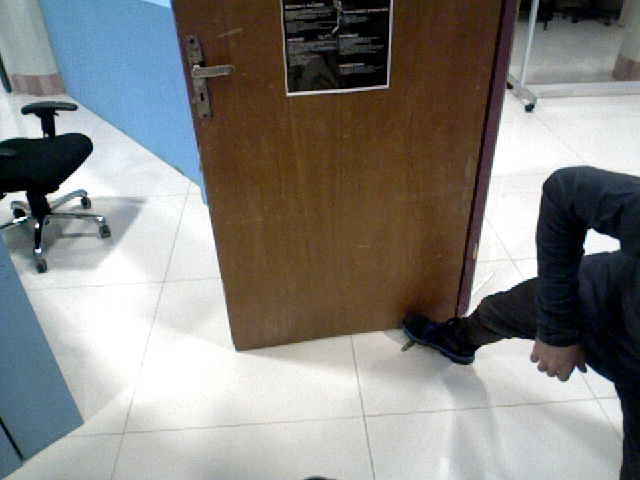door_handle: (183, 34, 235, 128)
